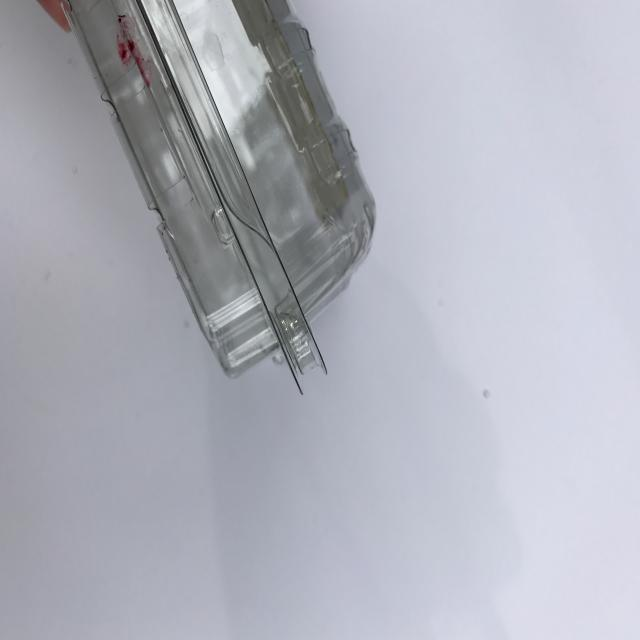plastic: (52, 0, 376, 392)
